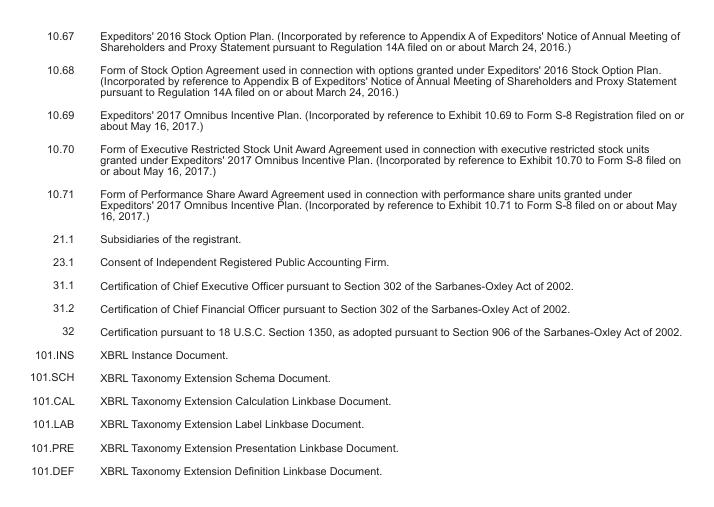table: (29, 28, 683, 475)
table column: (86, 28, 683, 475), (29, 28, 86, 475)
table row: (29, 57, 683, 102), (29, 136, 683, 181), (29, 181, 683, 226), (29, 102, 683, 136), (29, 28, 683, 57), (29, 272, 683, 296), (29, 388, 683, 412), (29, 226, 683, 249), (29, 249, 683, 272), (29, 296, 683, 319), (29, 319, 683, 342), (29, 342, 683, 365), (29, 365, 683, 388), (29, 412, 683, 435), (29, 435, 683, 458), (29, 458, 683, 475)
